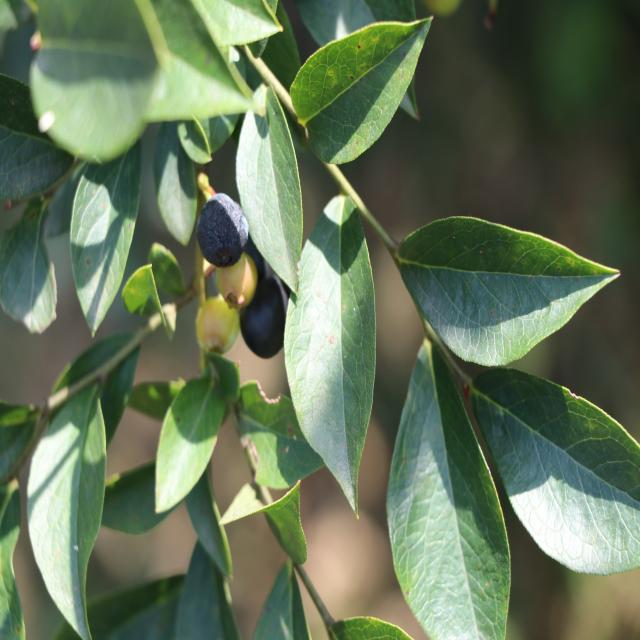blueberry: (233, 270, 289, 354), (195, 189, 252, 267)
blueberry-unripe: (194, 292, 246, 360), (218, 250, 257, 306)
